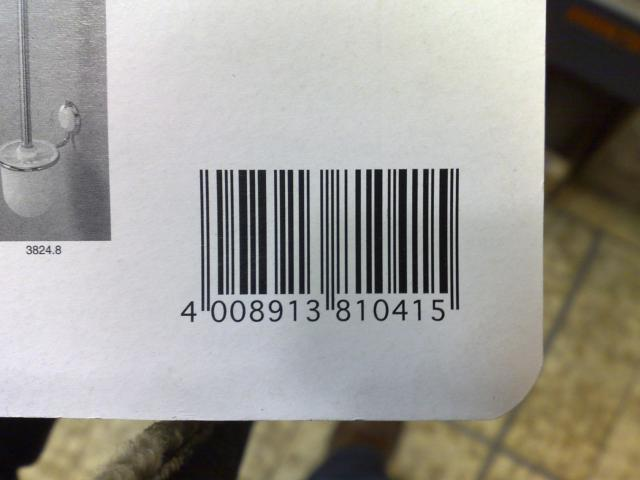Barcode: (165, 159, 470, 334)
